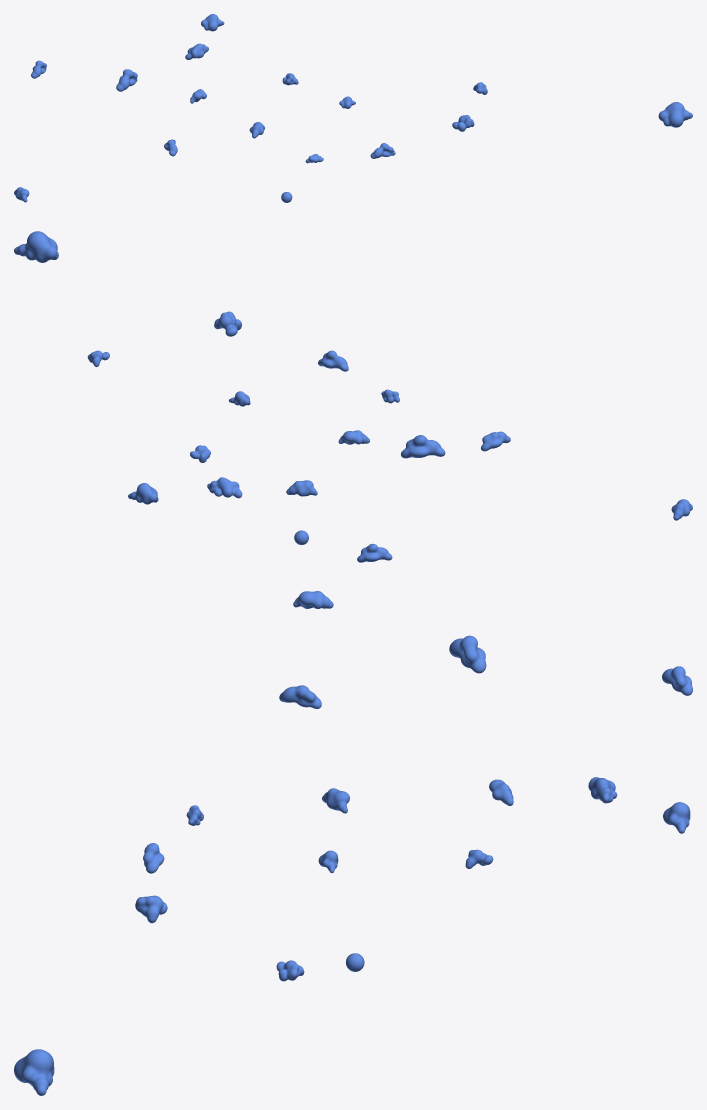
Rendered from CLOUDS.fbx.
3 views of the same model, one above another, from view 1: azimuth 30°, elevation 25°; view 2: azimuth 150°, elevation 25°; view 3: azimuth 270°, elevation 25° (orthographic). The views are drawn at different scales.
Visible parts, largest first — view 1: Mball.138; view 2: Mball.138; view 3: Mball.138.
Boxes of the visible parts, x1,y1,x2,y2 form: Mball.138: (14, 14, 692, 202); Mball.138: (14, 231, 692, 562); Mball.138: (14, 591, 692, 1095).
Size of the model in its own units: 127315 by 28261 by 74987.
